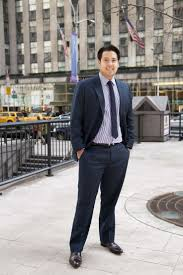F_M_suit jacket: (64, 73, 141, 152)
F_belt: (86, 138, 133, 152)
F_dress pants: (67, 147, 133, 249)
F_tie: (104, 80, 125, 143)
